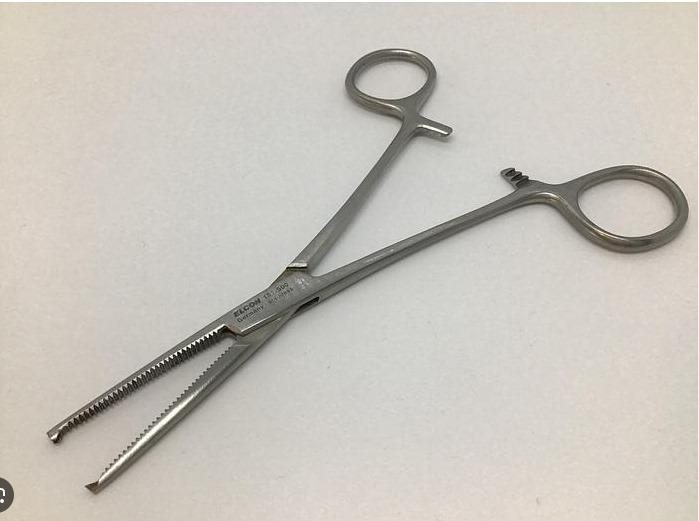Kocher Forceps: (48, 35, 691, 499)
